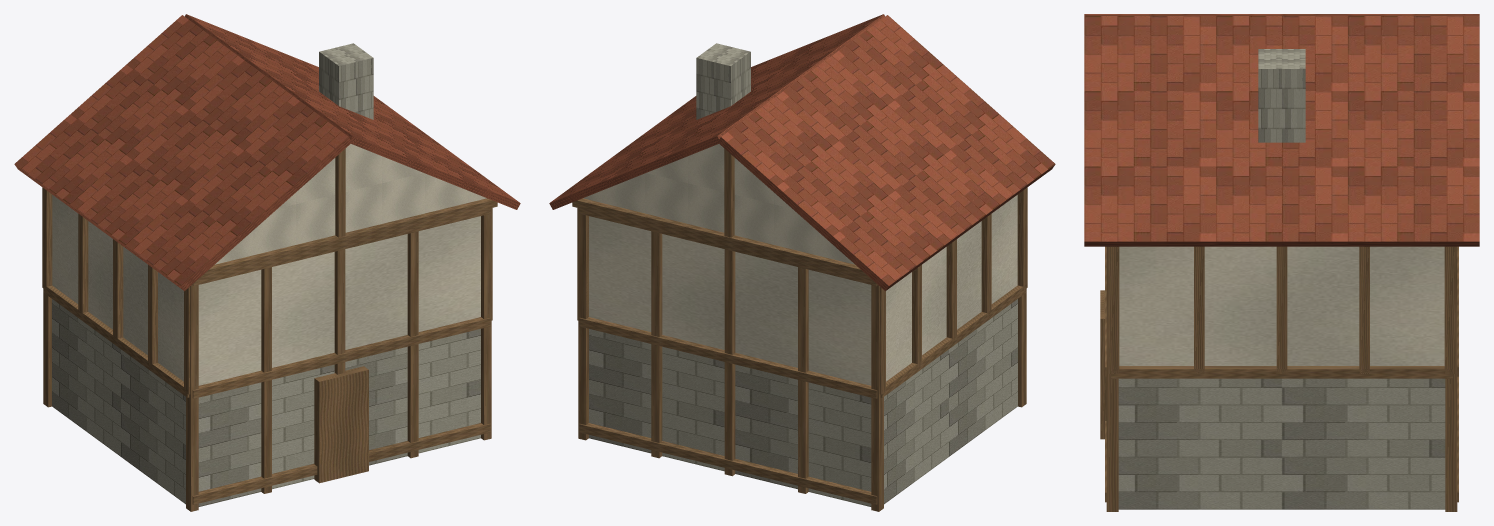
3 renders of one model, left to right at view 1: azimuth 30°, elevation 25°; view 2: azimuth 150°, elevation 25°; view 3: azimuth 270°, elevation 25°, orthographic. The views are drawn at different scales.
Parts seen in each view (by area): view 1: house-roof, house-plaster, house-stone, house-wood; view 2: house-roof, house-plaster, house-stone, house-wood; view 3: house-roof, house-stone, house-plaster, house-wood.
Boxes of the visible parts, bbox=[...] form: house-roof: bbox=[14, 14, 520, 291]; house-plaster: bbox=[52, 144, 486, 385]; house-stone: bbox=[52, 43, 480, 506]; house-wood: bbox=[42, 148, 497, 511]; house-roof: bbox=[549, 14, 1055, 291]; house-plaster: bbox=[583, 144, 1017, 385]; house-stone: bbox=[589, 43, 1017, 506]; house-wood: bbox=[572, 148, 1027, 511]; house-roof: bbox=[1084, 14, 1479, 246]; house-stone: bbox=[1118, 49, 1445, 509]; house-plaster: bbox=[1119, 246, 1444, 365]; house-wood: bbox=[1100, 246, 1458, 511].
Bounding box in the file's own units: 7.88 × 7.7 × 6.7.
Materials: 4 (4 with a texture image).
